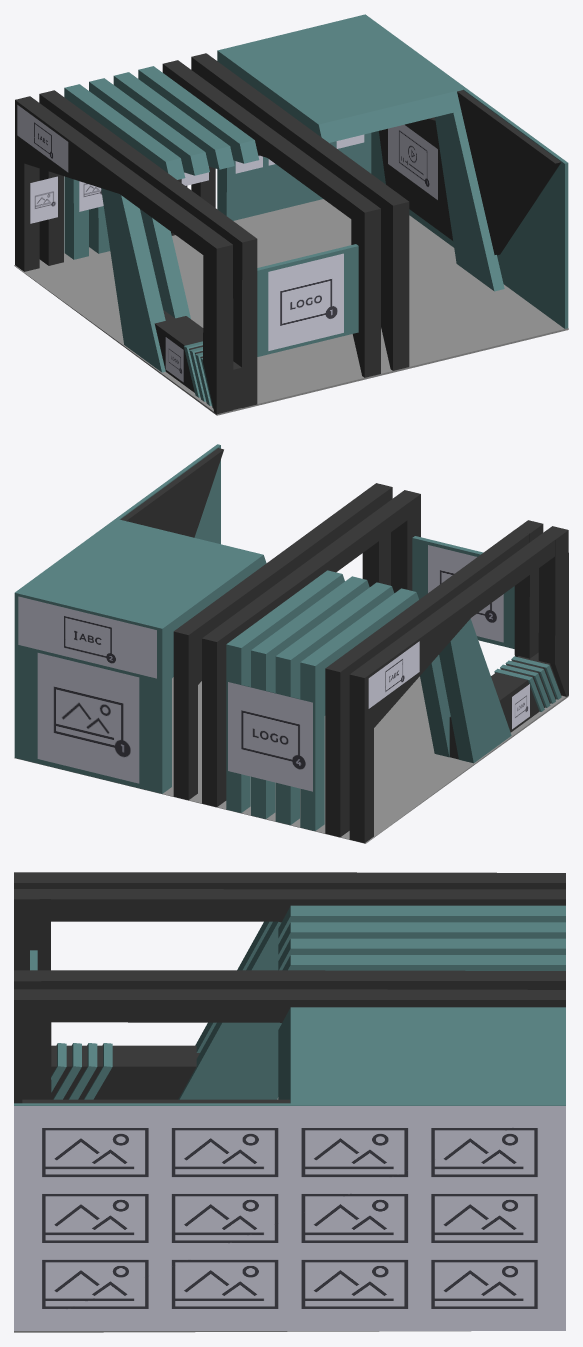
Rendered from stant16.gltf.
3 renders of one model, top to bottom at view 1: azimuth 30°, elevation 25°; view 2: azimuth 150°, elevation 25°; view 3: azimuth 270°, elevation 25°, orthographic. The views are drawn at different scales.
Parts seen in each view (by area): view 1: modrenk1, modrenk2, modzemin, modlogo1, modvideo1, modyazi1, moddikgorsel8, modlogo3, moddikgorsel7; view 2: modrenk1, modrenk2, modgorsel1, modzemin, modlogo4, modyazi2, modlogo2, modyazi1, modlogo3; view 3: modgenisgorsel, modrenk2, modrenk1, modzemin.
Boxes of the visible parts, box(x1,y1,x2,y2) form: modrenk1: box(64, 14, 568, 407); modrenk2: box(15, 53, 561, 414); modzemin: box(14, 199, 568, 415); modlogo1: box(268, 253, 343, 350); modvideo1: box(388, 124, 437, 199); modyazi1: box(17, 105, 68, 172); moddikgorsel8: box(30, 176, 57, 223); modlogo3: box(165, 337, 183, 382); moddikgorsel7: box(79, 181, 103, 211); modrenk1: box(14, 444, 561, 830); modrenk2: box(120, 448, 568, 843); modgorsel1: box(37, 653, 139, 783); modzemin: box(14, 676, 568, 843); modlogo4: box(228, 682, 312, 791); modyazi2: box(18, 596, 156, 678); modlogo2: box(428, 545, 503, 642); modyazi1: box(368, 641, 419, 708); modlogo3: box(512, 684, 529, 729); modgenisgorsel: box(14, 1106, 565, 1330); modrenk2: box(14, 872, 565, 1103); modrenk1: box(14, 905, 565, 1105); modzemin: box(14, 1097, 470, 1332).
Size of the model in its own units: 1 by 0.4541 by 1.01.
20 materials, 17 textured.
